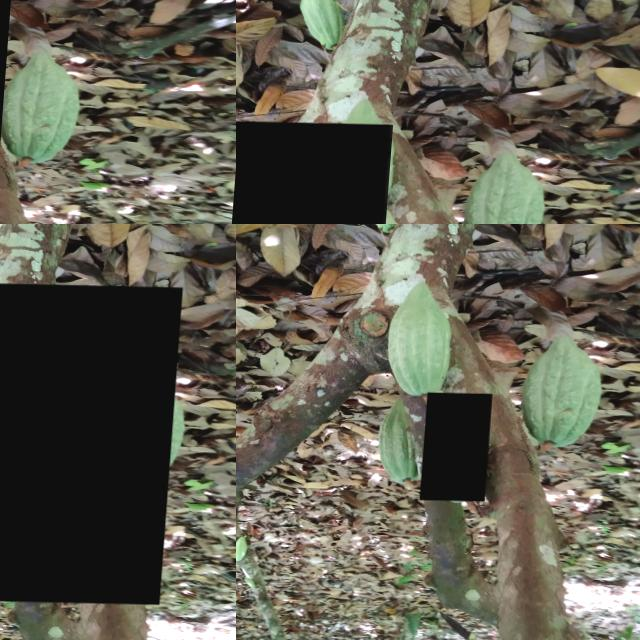Fitoftora: (236, 120, 396, 224)
Monilia: (0, 280, 184, 602)
Sana: (321, 58, 467, 224), (524, 328, 609, 443), (391, 281, 463, 397), (426, 391, 496, 500), (381, 398, 422, 483), (210, 271, 236, 375), (239, 534, 252, 559)
